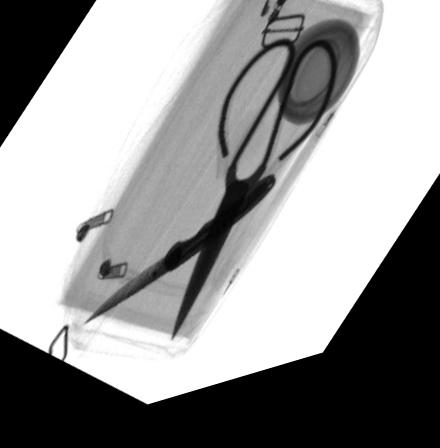Knife: (79, 190, 275, 331)
Scissors: (172, 51, 336, 349)
